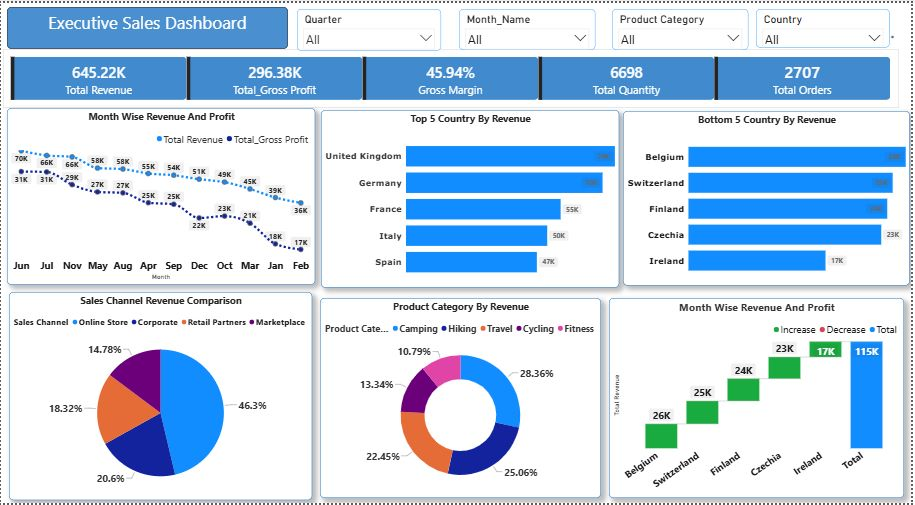

What the dashboard file says about the page in this screenshot:
{"tool":"powerbi","page":{"name":"Overview","canvas":[2000,1100],"ordinal":0},"visuals":[{"type":"cardVisual","fields":{"Data":["All_measure.Total Revenue","All_measure.Total_Gross Profit","All_measure.Gross Margin","All_measure.Total Quantity","All_measure.Total Orders"]},"box":[4.4,102.2,1971.2,129.8],"z":0},{"type":"clusteredBarChart","title":"Bottom 5 Country By Revenue","fields":{"Y":["All_measure.Total Revenue"],"Category":["Sales_Data.Country"]},"box":[1369.5,237.8,631.1,384.4],"z":0,"group":"g1"},{"type":"textbox","box":[13.3,8.9,618.2,92.4],"z":1000},{"type":"donutChart","title":"Product Category By Revenue","fields":{"Category":["Sales_Data.Product Category"],"Y":["Sum(Sales_Data.Gross Profit)"]},"box":[702.8,648.9,617.8,440],"z":1000,"group":"g1"},{"type":"slicer","fields":{"Values":["Date_Table.Quarter"]},"box":[651.3,13.1,317.2,91.6],"z":2000,"group":"g2"},{"type":"lineChart","title":"Month Wise Revenue And Profit","fields":{"Y2":["All_measure.Total_Gross Profit"],"Category":["Sales_Data.Month"],"Y":["All_measure.Total Revenue"]},"box":[13.3,231.1,677.8,388.9],"z":2000},{"type":"pieChart","title":"Sales Channel Revenue Comparison","fields":{"Y":["All_measure.Total Revenue"],"Category":["Sales_Data.Sales Channel"]},"box":[17.8,635,666.7,457.8],"z":2000,"group":"g1"},{"type":"slicer","fields":{"Values":["Date_Table.Month_Name"]},"box":[1006.6,13.1,300.3,90],"z":3000,"group":"g2"},{"type":"clusteredBarChart","title":"Top 5 Country By Revenue","fields":{"Y":["All_measure.Total Revenue"],"Category":["Sales_Data.Country"]},"box":[704.4,235.6,655.6,391.1],"z":3000},{"type":"slicer","fields":{"Values":["Sales_Data.Product Category"]},"box":[1345,13.1,300.3,90],"z":4000,"group":"g2"},{"type":"waterfallChart","title":"Month Wise Revenue And Profit","fields":{"Category":["Sales_Data.Country"],"Y":["All_measure.Total Revenue"]},"box":[1337.8,648.9,648.9,440],"z":4000},{"type":"slicer","fields":{"Values":["Sales_Data.Country"]},"box":[1661.8,12.7,294.1,85.2],"z":5000,"group":"g2"},{"type":"group","id":"g1","title":"Group 1","box":[17.8,237.8,1982.2,855.6],"z":5000},{"type":"group","id":"g2","title":"Group 2","box":[651.3,12.7,1304.6,92],"z":7000}]}

Visuals, with their boxes in screenshot pixels (x1, y1, x2, y2), scaled from the page's 2000x1100 canvas onto the 915x505 screenshot:
cardVisual - All_measure.Total Revenue x All_measure.Total_Gross Profit: 2:47:904:107
"Bottom 5 Country By Revenue" clusteredBarChart: 627:109:914:286
textbox: 6:4:289:47
"Product Category By Revenue" donutChart: 322:298:604:500
slicer - Date_Table.Quarter: 298:6:443:48
"Month Wise Revenue And Profit" lineChart: 6:106:316:285
"Sales Channel Revenue Comparison" pieChart: 8:292:313:502
slicer - Date_Table.Month_Name: 461:6:598:47
"Top 5 Country By Revenue" clusteredBarChart: 322:108:622:288
slicer - Sales_Data.Product Category: 615:6:753:47
"Month Wise Revenue And Profit" waterfallChart: 612:298:909:500
slicer - Sales_Data.Country: 760:6:895:45
"Group 1" group: 8:109:914:502
"Group 2" group: 298:6:895:48
